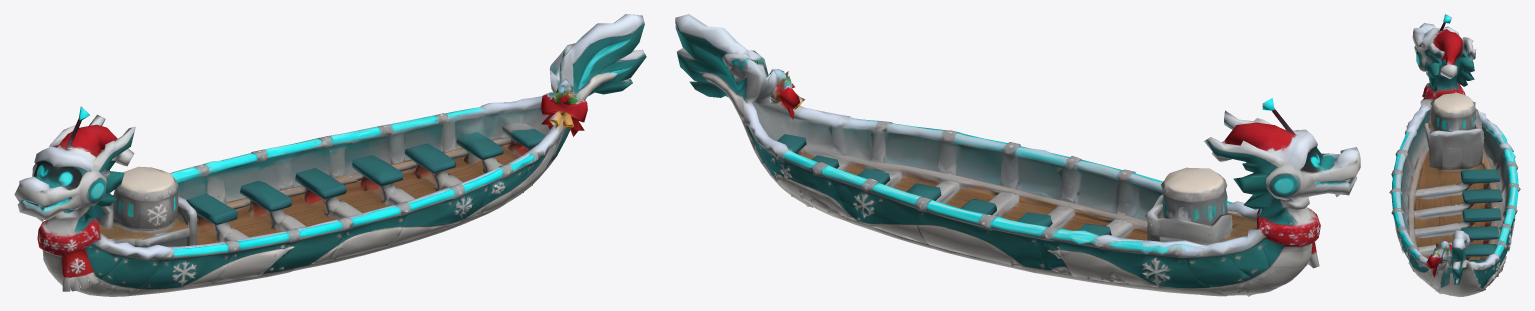
The model's file is boat-robot.glb.
3 renders of one model, left to right at view 1: azimuth 30°, elevation 25°; view 2: azimuth 150°, elevation 25°; view 3: azimuth 270°, elevation 25°, orthographic. The views are drawn at different scales.
Parts seen in each view (by area): view 1: tripo_node_544ea67d-2af2-4e93-807c-1feb256703f3; view 2: tripo_node_544ea67d-2af2-4e93-807c-1feb256703f3; view 3: tripo_node_544ea67d-2af2-4e93-807c-1feb256703f3.
Boxes of the visible parts, <box> form: tripo_node_544ea67d-2af2-4e93-807c-1feb256703f3: <box>14,14,646,296</box>; tripo_node_544ea67d-2af2-4e93-807c-1feb256703f3: <box>675,14,1360,296</box>; tripo_node_544ea67d-2af2-4e93-807c-1feb256703f3: <box>1389,14,1520,296</box>.
Bounding box in the file's own units: 1 × 0.2878 × 0.2537.
1 material, 1 textured.
